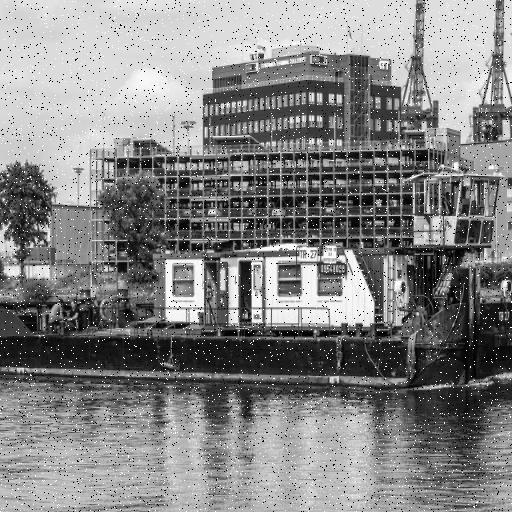tugboat: (1, 160, 512, 400)
